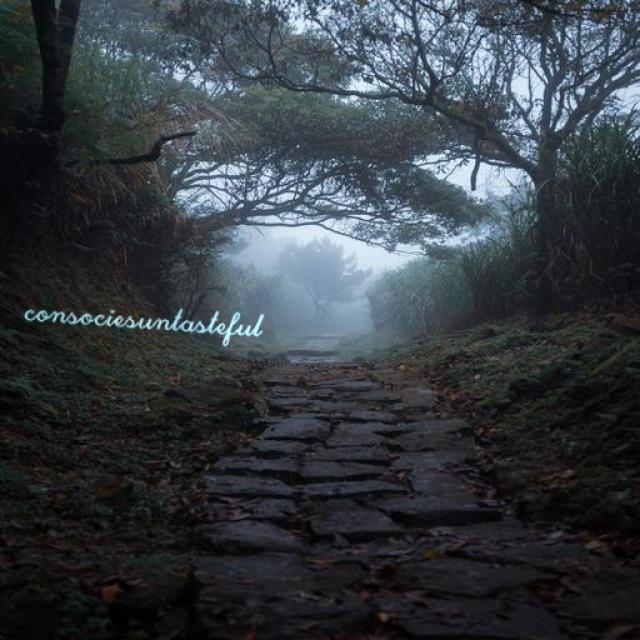watermark: (16, 295, 283, 341)
